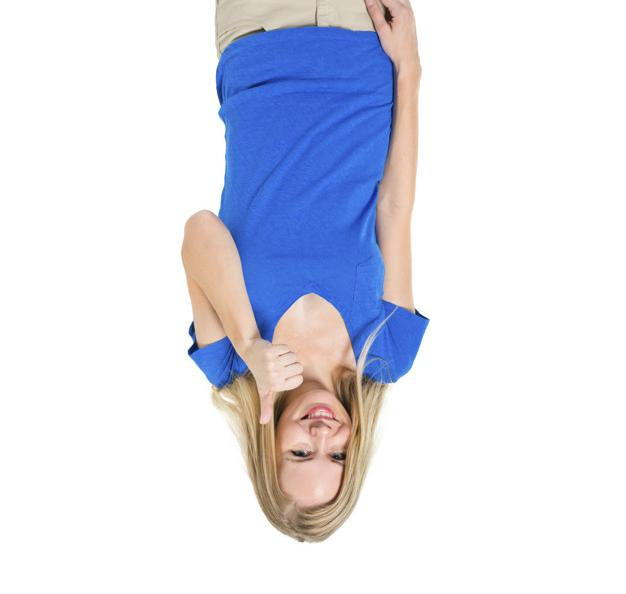thumbsdown: (257, 343, 304, 425)
